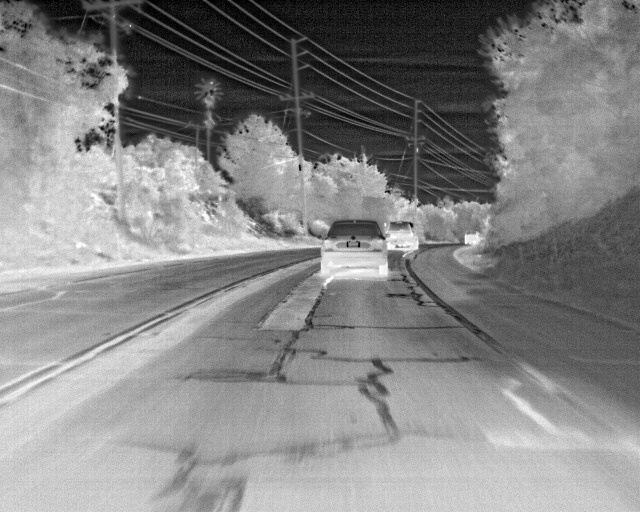vehicle: (321, 218, 390, 277), (388, 221, 420, 252), (463, 230, 483, 247)
